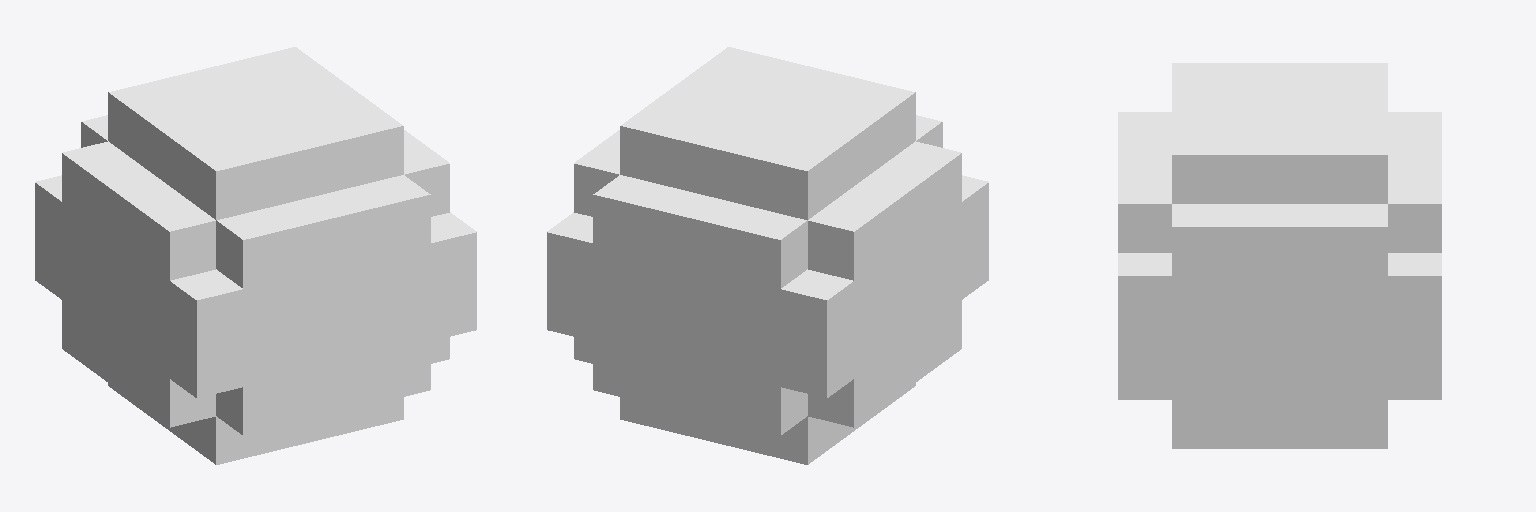
The model's file is hand.obj.
3 views of the same model, side by side, from view 1: azimuth 30°, elevation 25°; view 2: azimuth 150°, elevation 25°; view 3: azimuth 270°, elevation 25° (orthographic).
Visible parts, largest first — view 1: object 1; view 2: object 1; view 3: object 1.
Boxes of the visible parts, x1=… form: object 1: x1=35, y1=47, x2=476, y2=464; object 1: x1=547, y1=47, x2=988, y2=464; object 1: x1=1118, y1=63, x2=1441, y2=448.
Size of the model in its own units: 0.6 by 0.6 by 0.6.